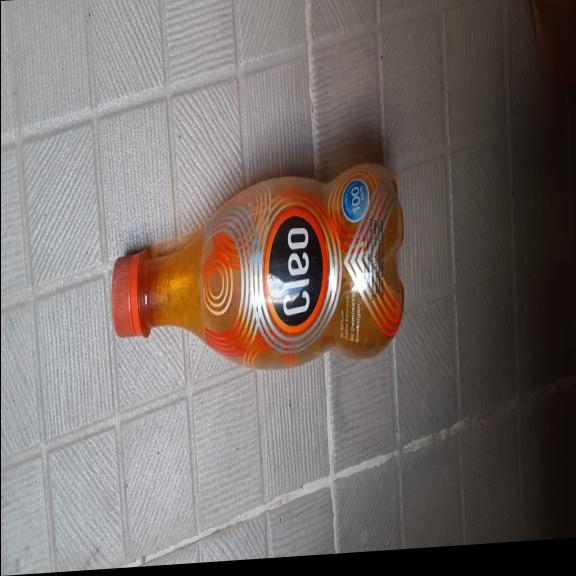Plastik: (111, 154, 405, 391)
